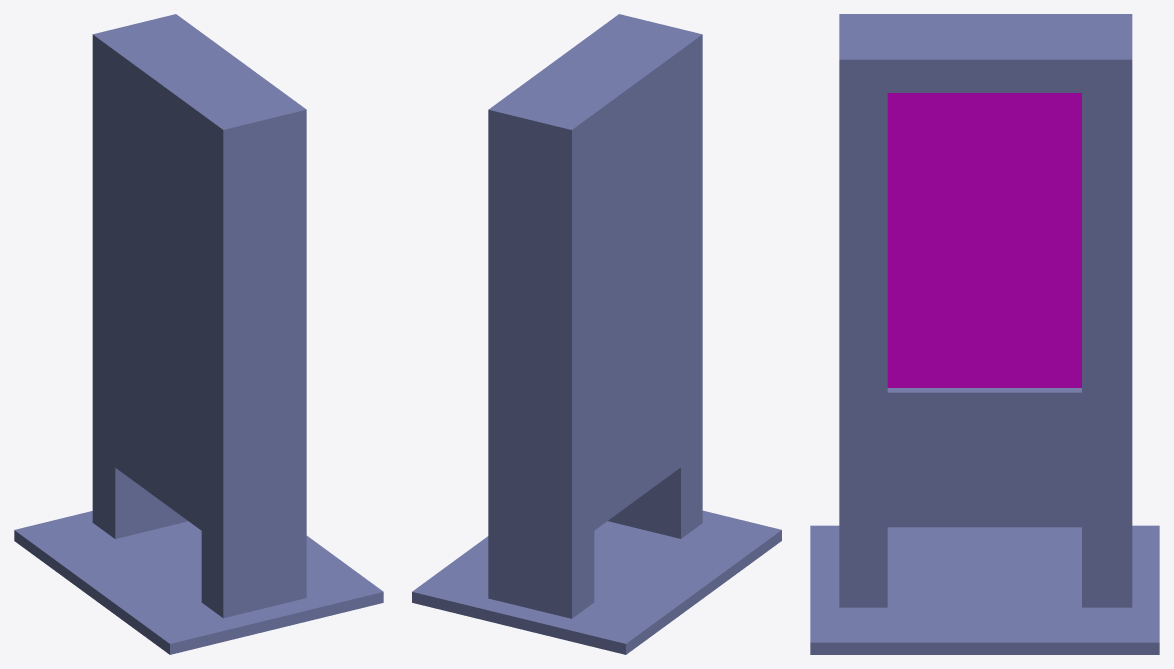
The model's file is Kiosk_policePost.fbx.
3 renders of one model, left to right at view 1: azimuth 30°, elevation 25°; view 2: azimuth 150°, elevation 25°; view 3: azimuth 270°, elevation 25°, orthographic. The views are drawn at different scales.
Parts seen in each view (by area): view 1: pCube9, pCube17; view 2: pCube9, pCube17; view 3: pCube9, pCube17.
Part boxes in pixels (x1,y1,x2,y2): pCube9: [92, 14, 306, 618]; pCube17: [14, 511, 383, 654]; pCube9: [488, 14, 702, 618]; pCube17: [412, 510, 781, 654]; pCube9: [839, 14, 1132, 607]; pCube17: [810, 525, 1159, 654].
Bounding box in the file's own units: 92.95 × 207 × 117.
